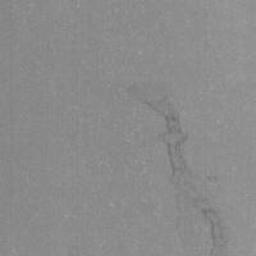Water spot: (125, 78, 237, 256)
